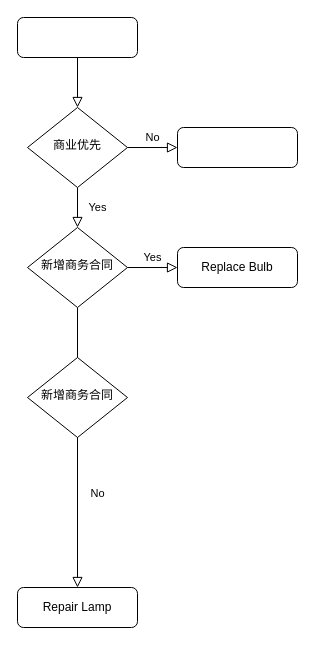
The diagram is 315 pixels wide and 645 high, and some of its shapes have lost their labels. The centre of each missing label's shape, as x and y in pixels:
"Lamp doesn't work" goes at pixel 77 37.
"Plug in lamp" goes at pixel 237 147.
